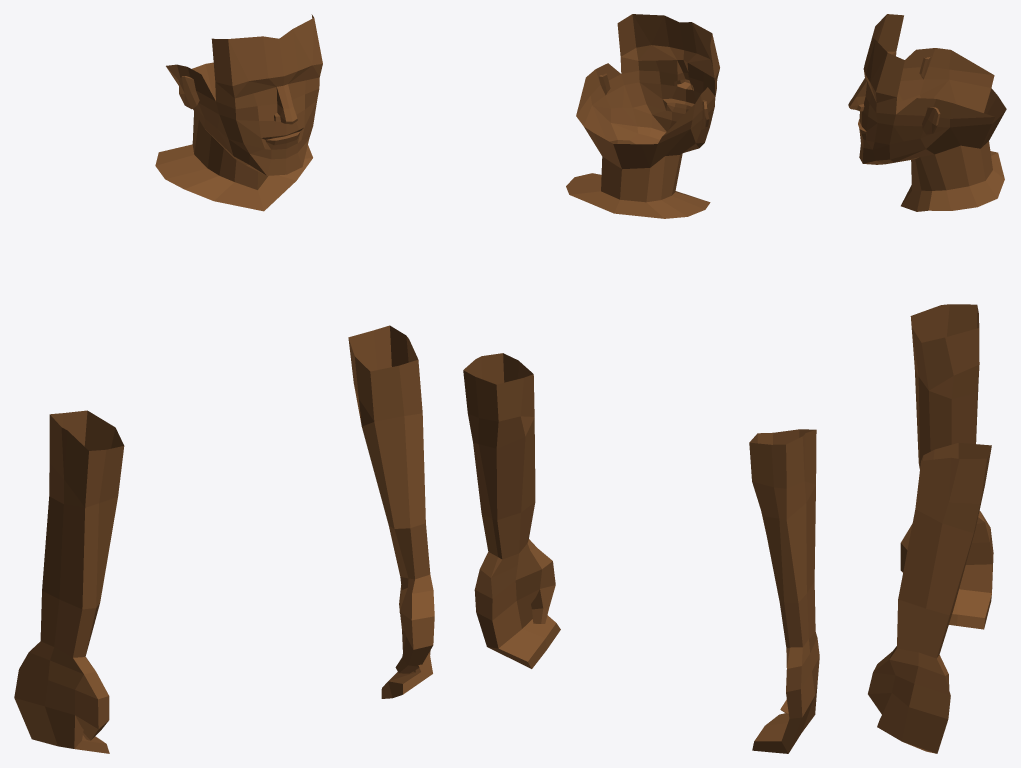
File: Skin_007.obj
3 views of the same model, side by side, from view 1: azimuth 30°, elevation 25°; view 2: azimuth 150°, elevation 25°; view 3: azimuth 270°, elevation 25° (orthographic). The views are drawn at different scales.
Size of the model in its own units: 0.63 by 1.14 by 0.2483.
